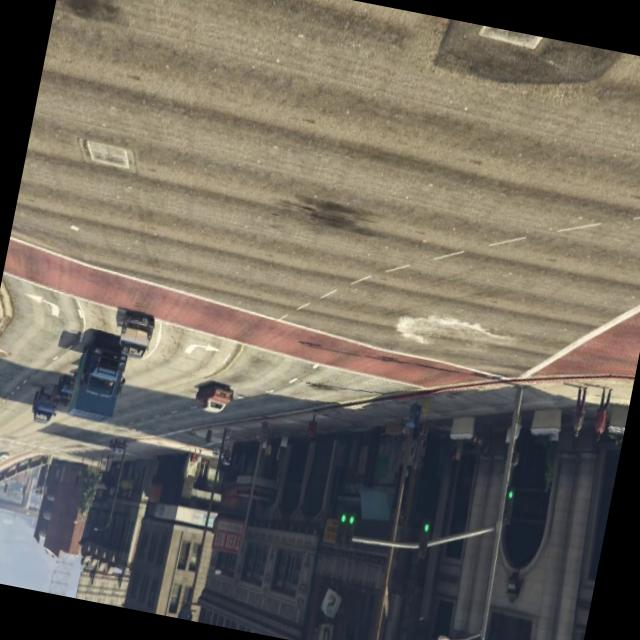Green-Signal: (326, 484, 369, 564), (492, 467, 529, 536), (412, 502, 444, 570)
